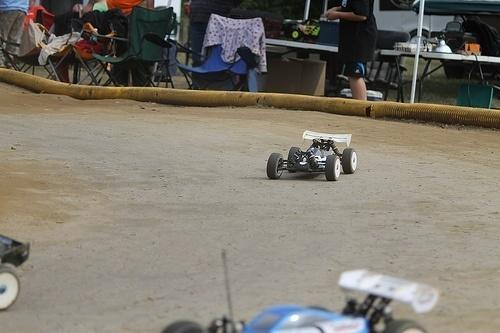Car: (156, 239, 468, 332), (256, 125, 374, 199)
